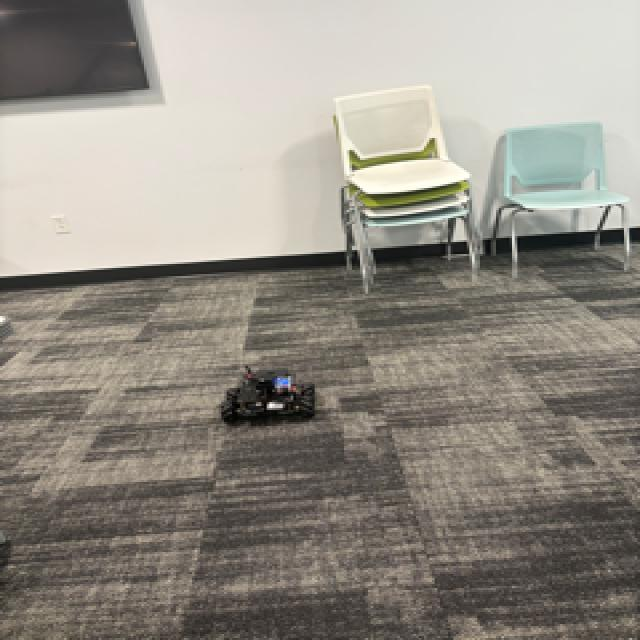ArduinoCar3: (217, 365, 320, 426)
